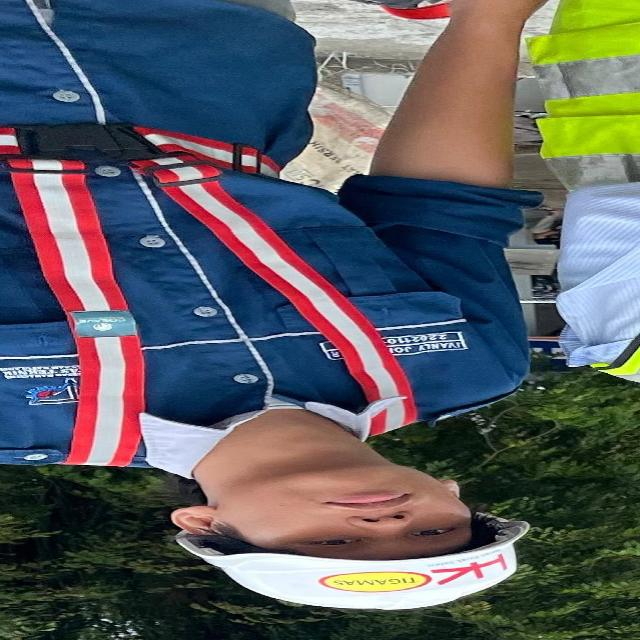safetyhelmet: (134, 468, 560, 614)
